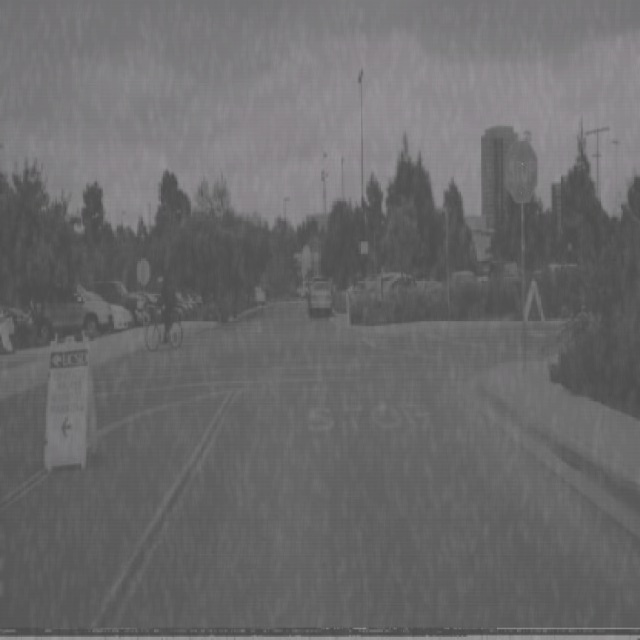stop: (504, 138, 538, 204)
